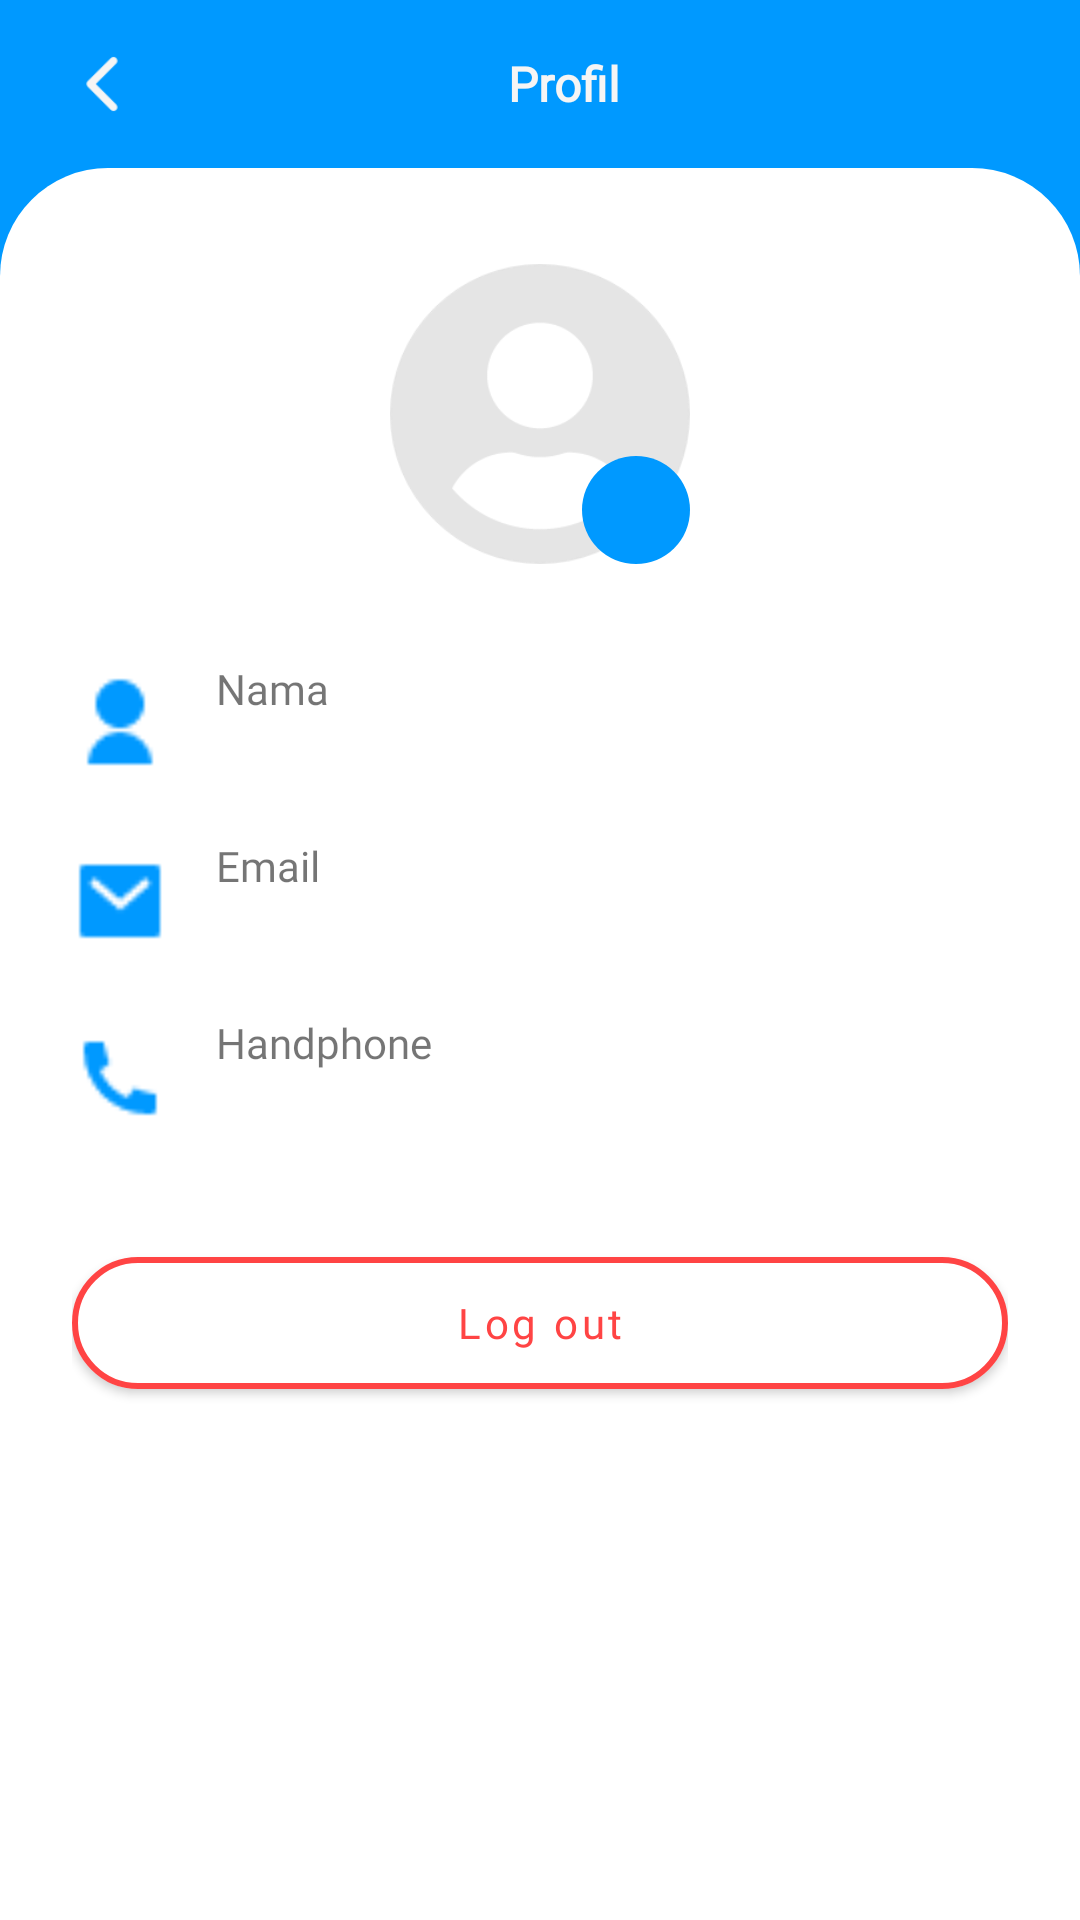

Where to tap for icons on this 1080x1920 app screen, as point (x, y):
arrow back: point (102, 84)
user: point (120, 722)
user circle: point (540, 414)
